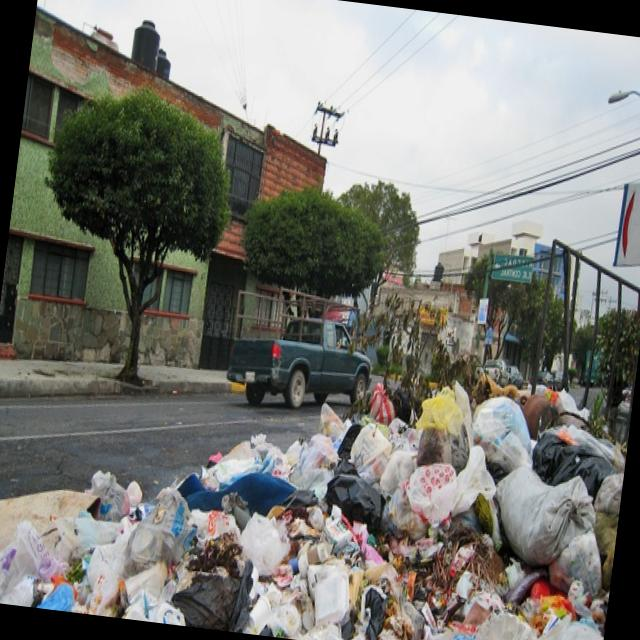garbage: (0, 302, 635, 640)
